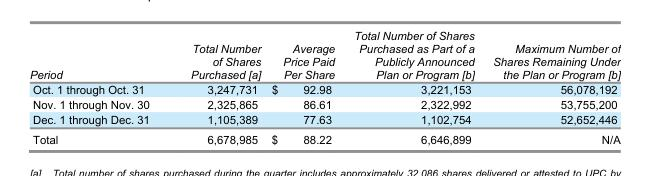table: (28, 28, 619, 145)
table column: (28, 28, 169, 145), (343, 28, 483, 145), (483, 28, 619, 145), (169, 28, 265, 145), (265, 28, 343, 145)
table column header: (28, 28, 619, 81)
table row: (28, 28, 619, 81), (28, 111, 619, 128), (28, 128, 619, 145), (28, 81, 619, 96), (28, 96, 619, 111)
